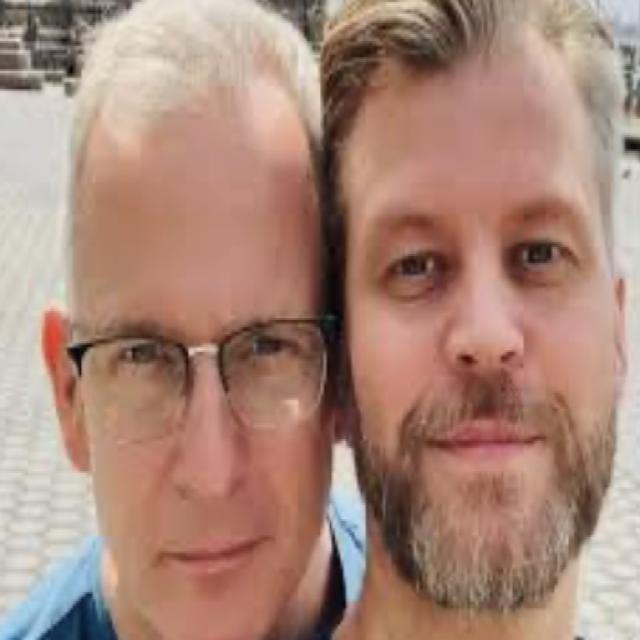natural: (42, 111, 340, 640)
